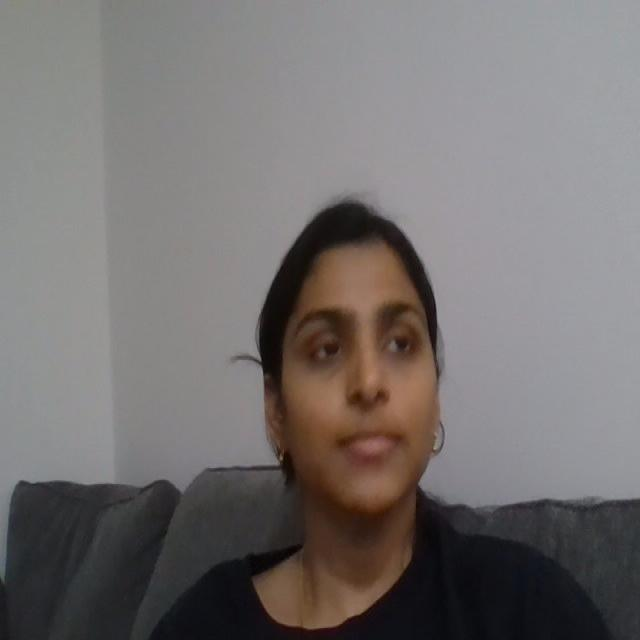No Hat: (249, 164, 456, 292)
